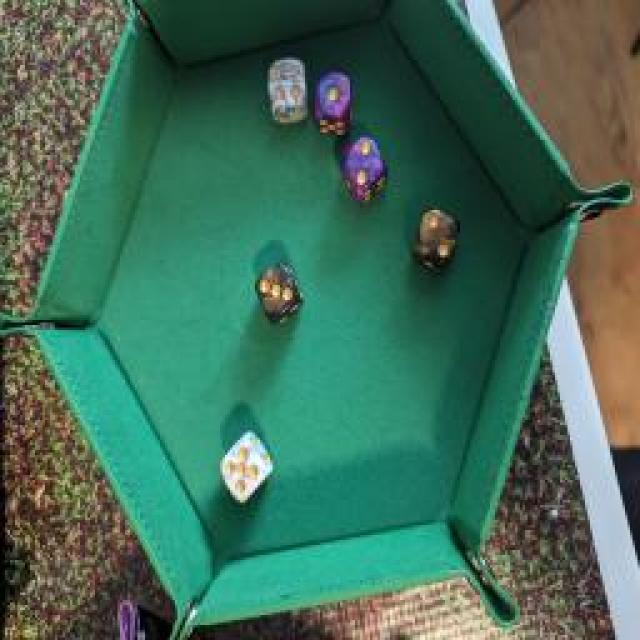dice_1: (310, 71, 358, 144)
dice_2: (406, 202, 466, 278), (339, 134, 391, 206)
dice_3: (251, 256, 309, 324)
dice_4: (264, 54, 311, 126)
dice_5: (219, 427, 276, 505)
